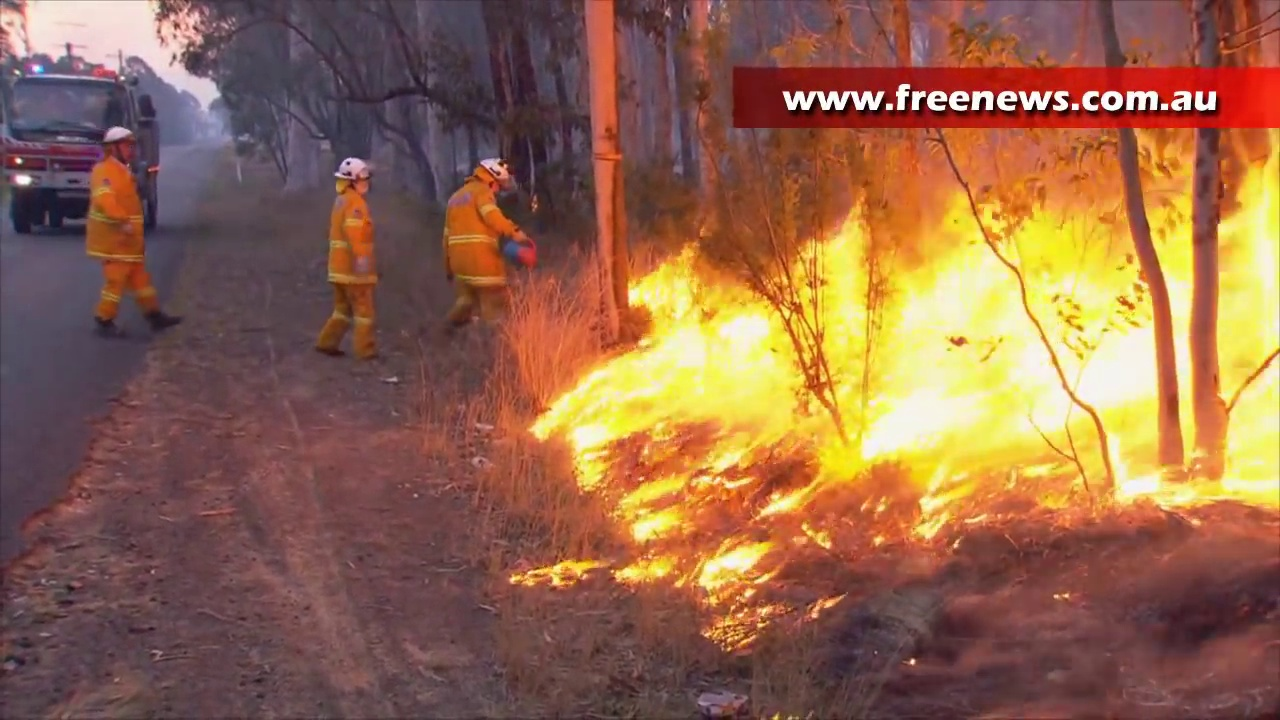fire: (538, 185, 1197, 515), (1221, 187, 1279, 499), (689, 539, 788, 644), (510, 556, 599, 588), (614, 553, 677, 584), (627, 513, 680, 542)
